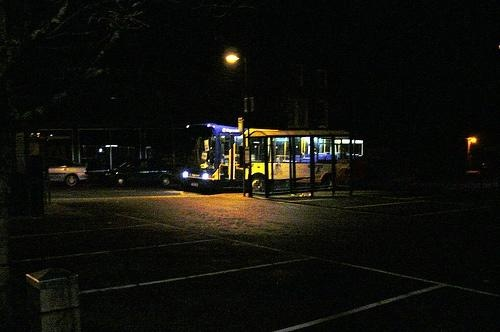bus: (179, 118, 365, 194)
car: (104, 156, 179, 189), (46, 157, 89, 188)
